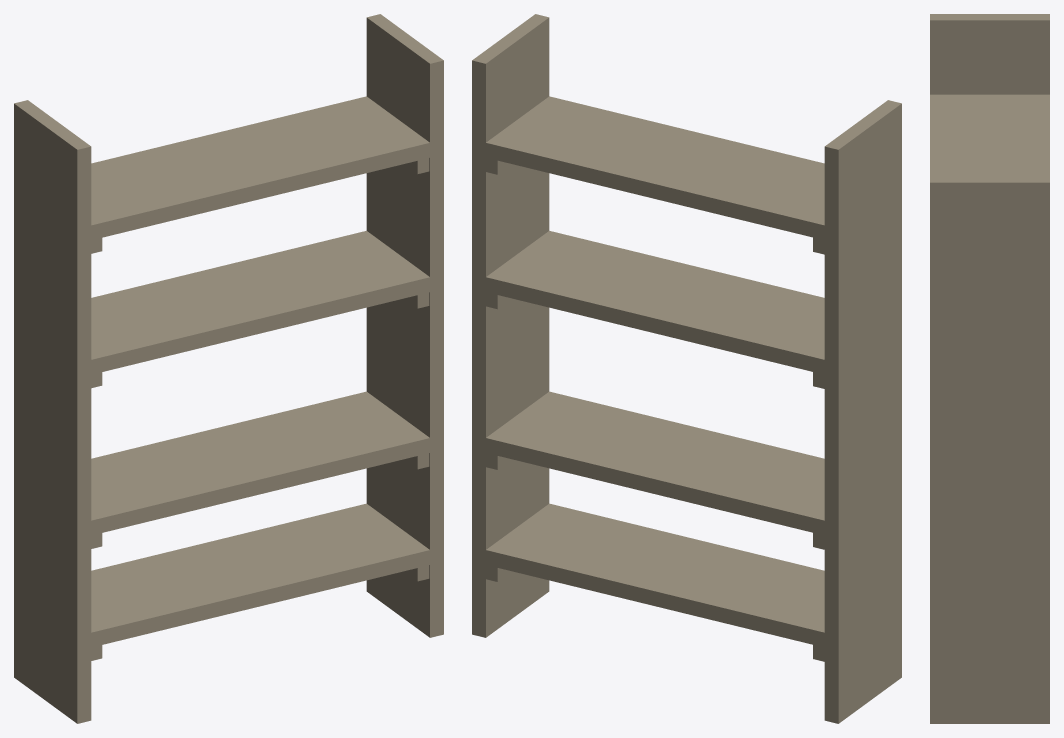
The model's file is raflk.fbx.
The picture shows the model from 3 angles, left to right: view 1: azimuth 30°, elevation 25°; view 2: azimuth 150°, elevation 25°; view 3: azimuth 270°, elevation 25°; orthographic projection. The views are drawn at different scales.
Visible parts, largest first — view 1: storage_shelving_01; view 2: storage_shelving_01; view 3: storage_shelving_01.
Boxes of the visible parts, bbox=[...] form: storage_shelving_01: bbox=[14, 14, 443, 723]; storage_shelving_01: bbox=[472, 14, 901, 723]; storage_shelving_01: bbox=[930, 14, 1049, 723].
Bounding box in the file's own units: 100 × 150 × 30.
